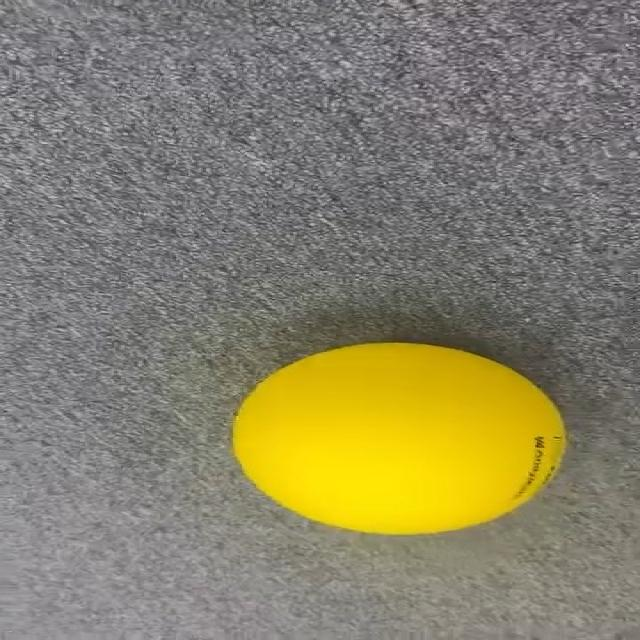Fuels: (229, 343, 565, 533)
